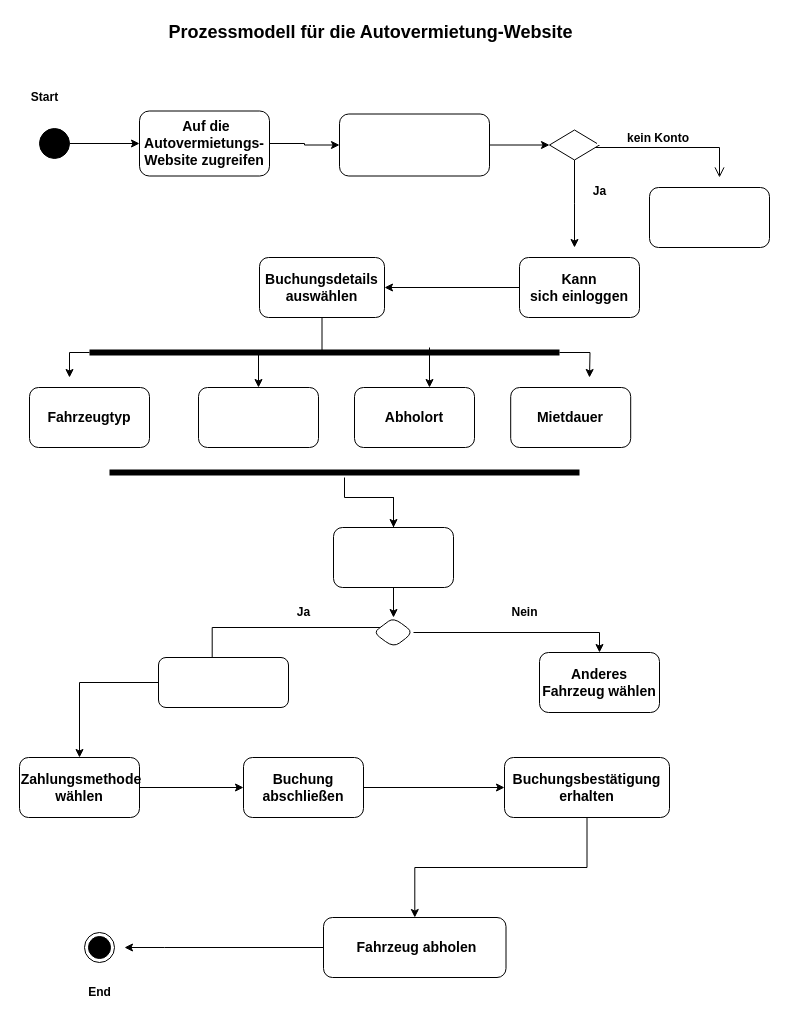
The diagram is 787 pixels wide and 1024 high, and some of its shapes have lost their labels. Here are the shapes that lost their labels. From the top down, the centre of each, then its label:
At [414,144]: "Kundenregistrierung oder Login".
At [709,217]: "Muss sich registrieren".
At [258,417]: "Rückgabeort".
At [393,557]: "Verfügbarkeit prüfen".
At [223,682]: "Weiter zur Bezahlung".
